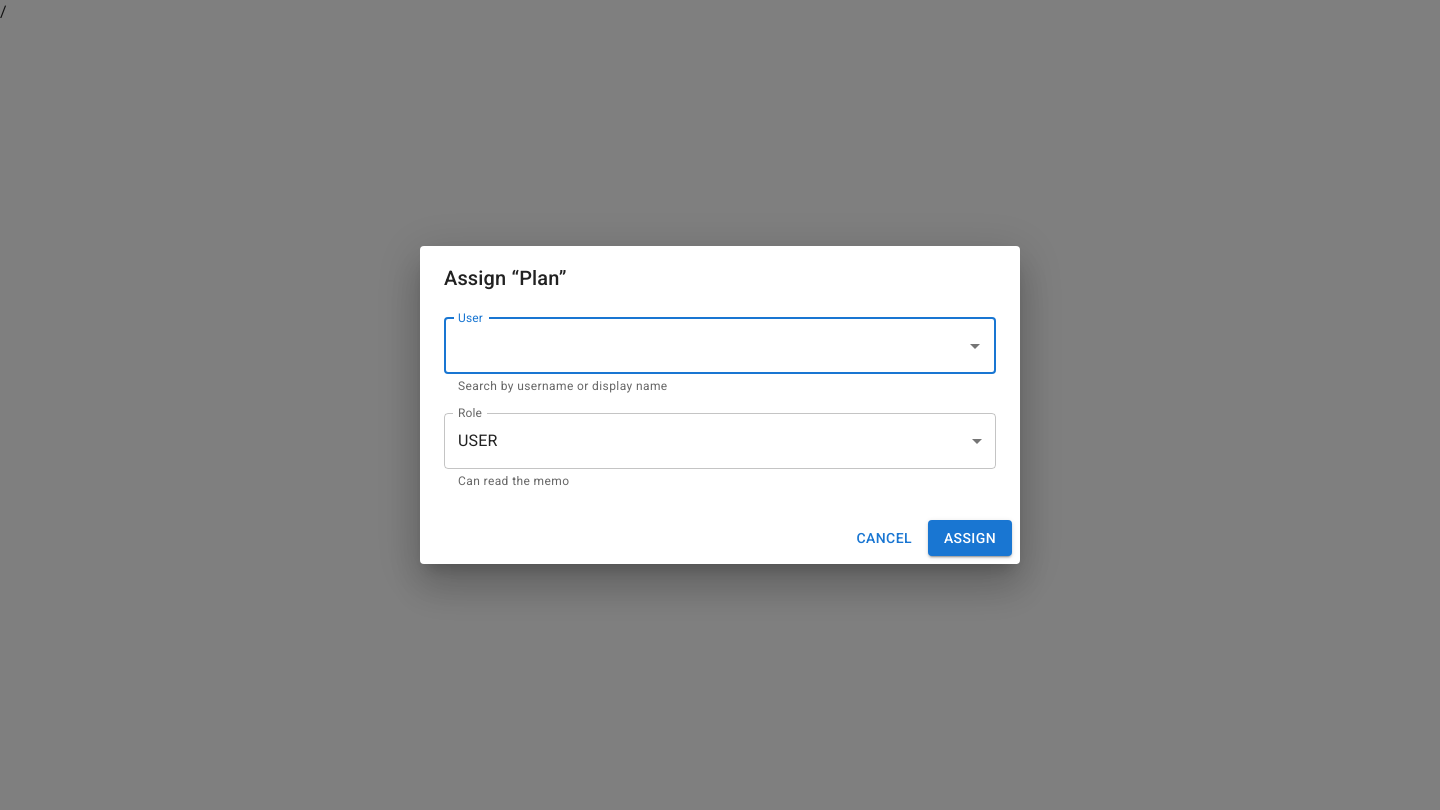
Test: AssignMemoDialog › asks to choose a user first
This screenshot has width=1440, height=810.
Expected: the heading "Assign “Plan”" is shown, [444,266,566,290]
Click the button "Assign" at x=970, y=538, box [928,520,1012,556]
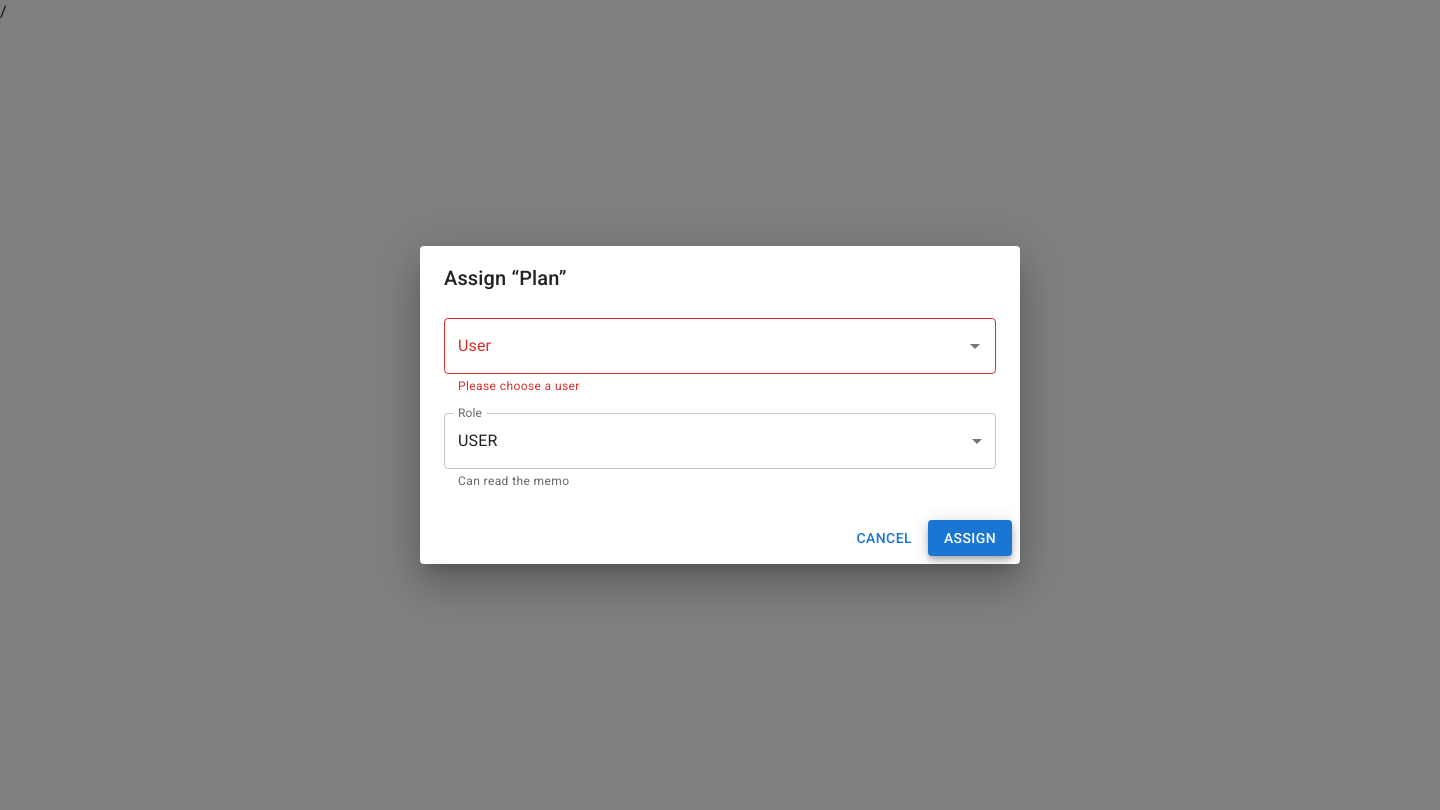
Now the text "Please choose a user" is shown, box [458,379,580,393]
